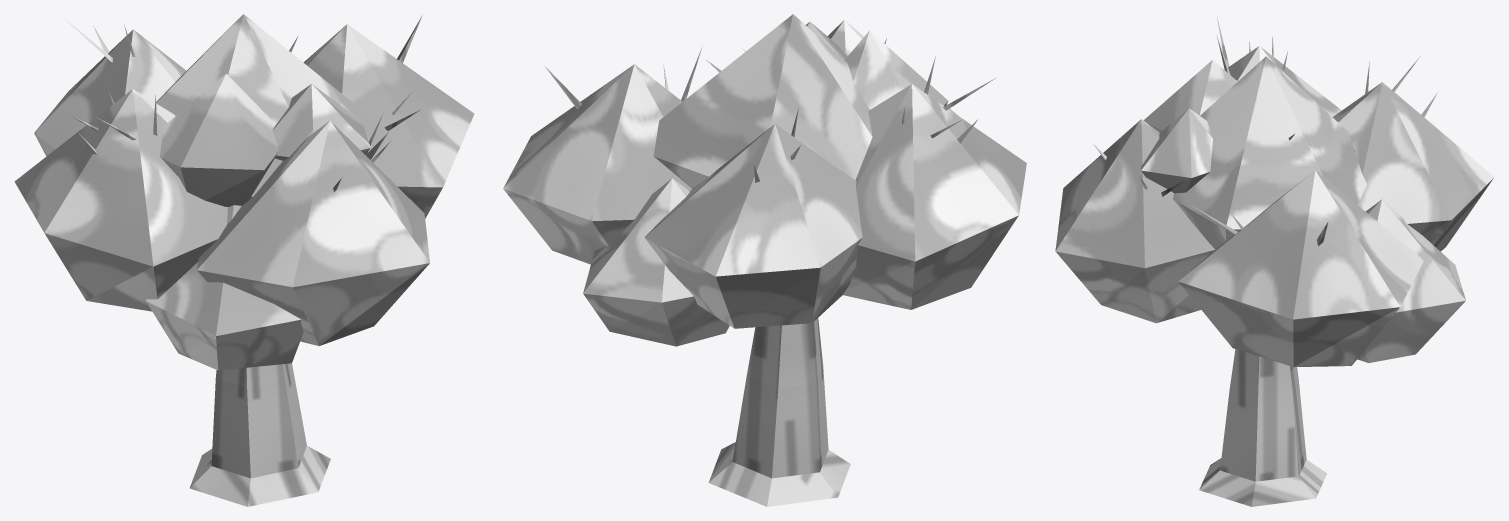
Rendered from tree_oak_3.obj.
3 renders of one model, left to right at view 1: azimuth 30°, elevation 25°; view 2: azimuth 150°, elevation 25°; view 3: azimuth 270°, elevation 25°, orthographic. The views are drawn at different scales.
Parts seen in each view (by area): view 1: tree_oak_3; view 2: tree_oak_3; view 3: tree_oak_3.
Part boxes in pixels (<box>): tree_oak_3: <box>14,14,474,506</box>; tree_oak_3: <box>503,14,1026,506</box>; tree_oak_3: <box>1055,15,1494,506</box>.
Size of the model in its own units: 1.06 by 1.03 by 0.9744.
